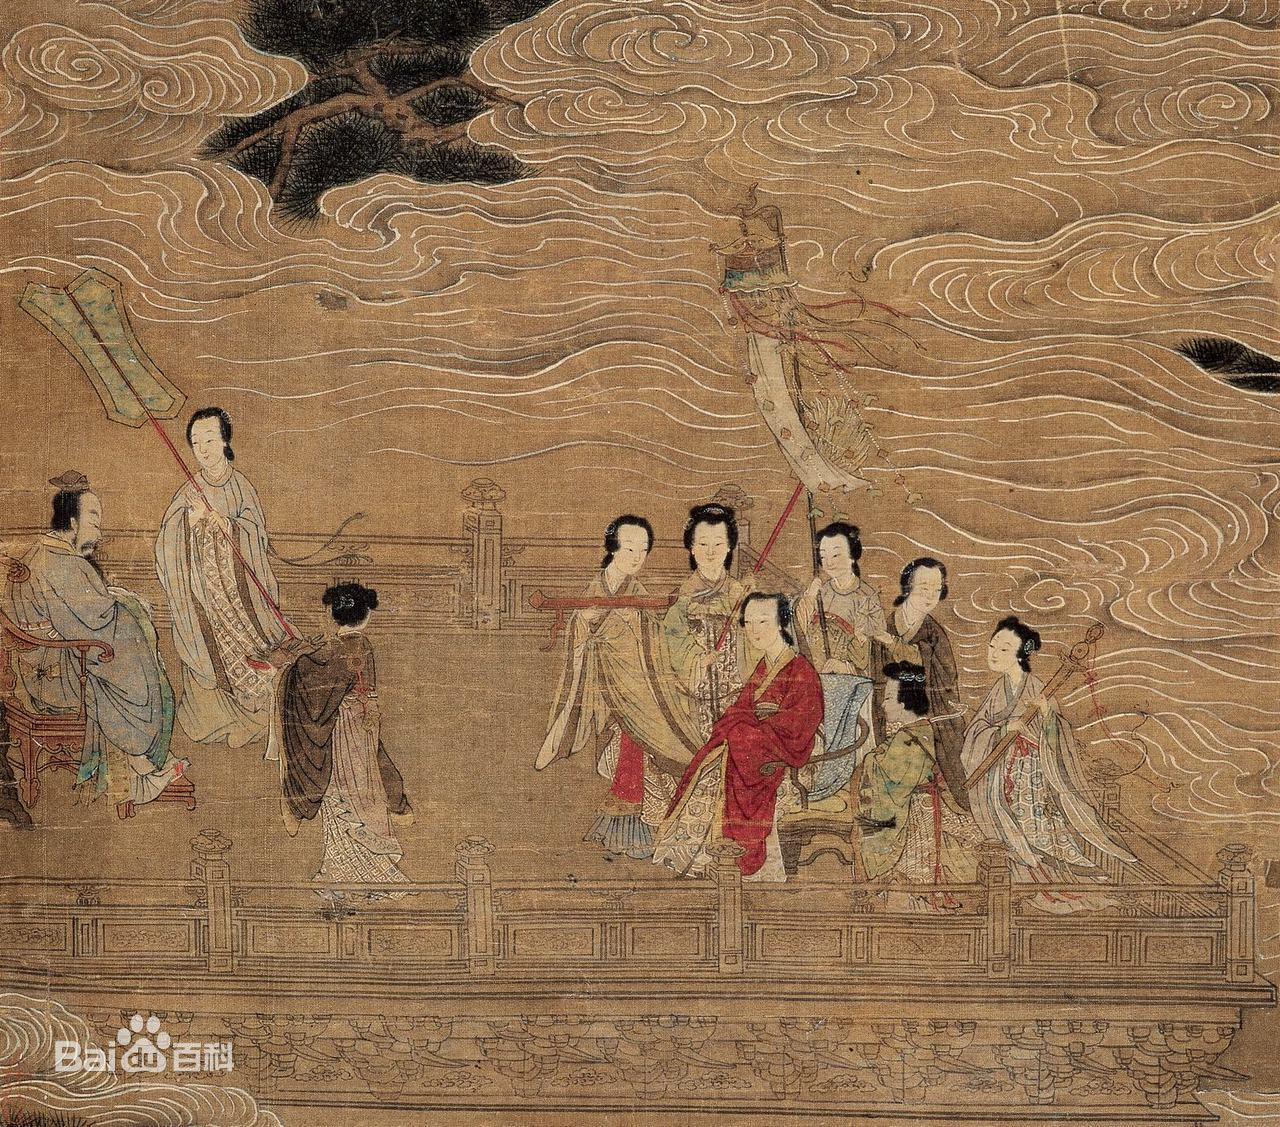cloud: (874, 186, 1280, 549), (514, 19, 1274, 184), (22, 169, 710, 296), (230, 306, 716, 466), (1111, 552, 1278, 824), (2, 15, 270, 141)
decoration: (1059, 637, 1092, 683), (251, 638, 303, 661)
flag: (728, 253, 860, 491), (46, 290, 173, 429)
man: (35, 492, 165, 811)
wall: (9, 874, 1259, 1112), (278, 531, 566, 586), (396, 585, 542, 634)
woman: (165, 419, 280, 754), (577, 537, 698, 835), (292, 602, 392, 888), (972, 612, 1066, 875), (846, 690, 954, 900), (727, 609, 792, 879), (680, 522, 734, 708), (807, 541, 870, 674), (891, 562, 942, 706), (676, 755, 722, 863)
